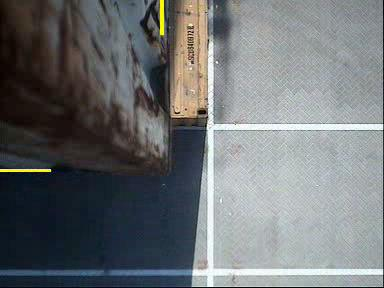groundmarker_2: (191, 13, 253, 109)
